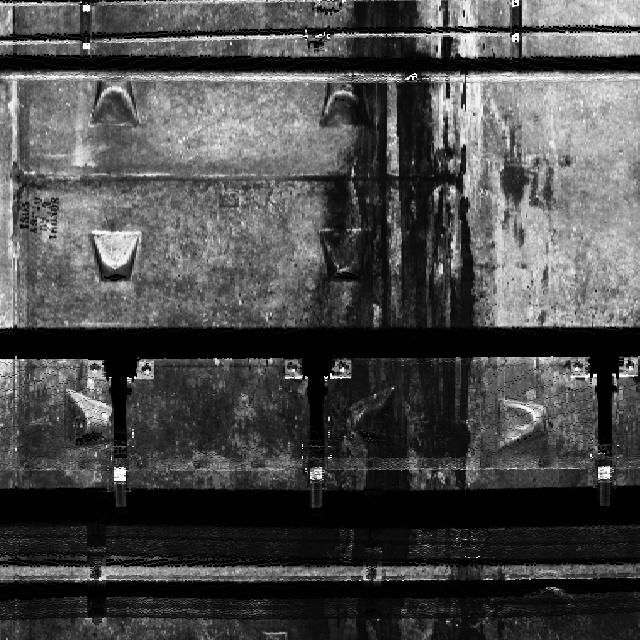leakage: (298, 0, 516, 638)
